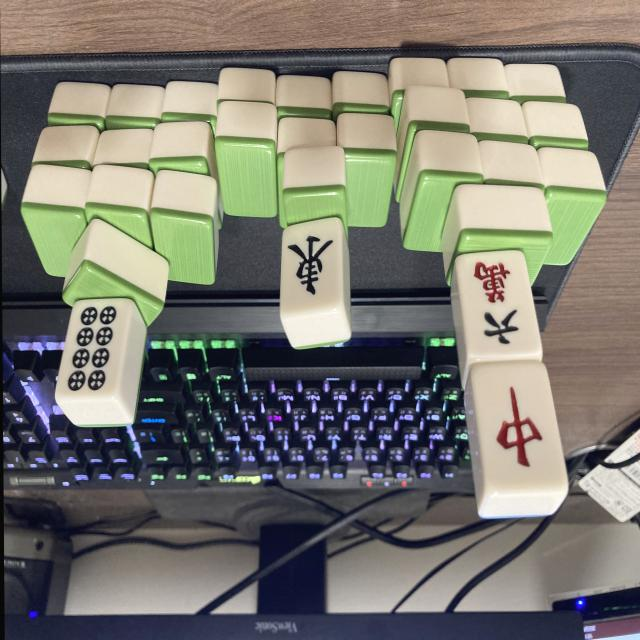east: (284, 217, 347, 312)
m6: (458, 251, 542, 362)
t8: (56, 299, 134, 403)
zhong: (464, 356, 575, 502)
